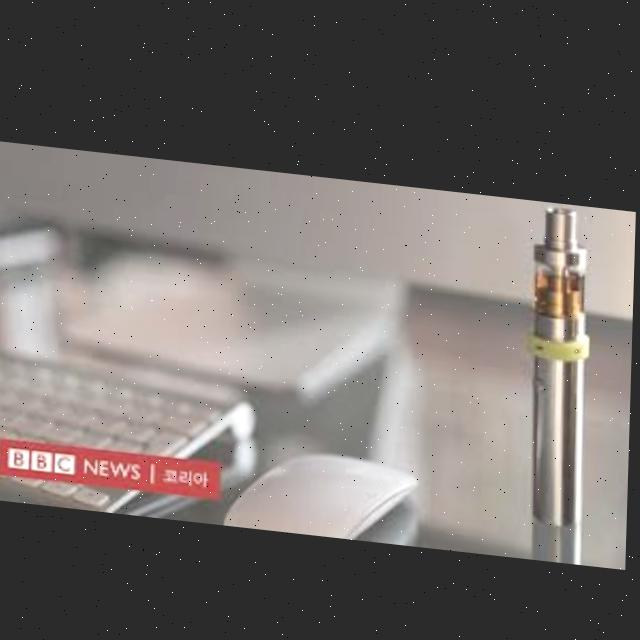vape: (527, 190, 595, 519)
